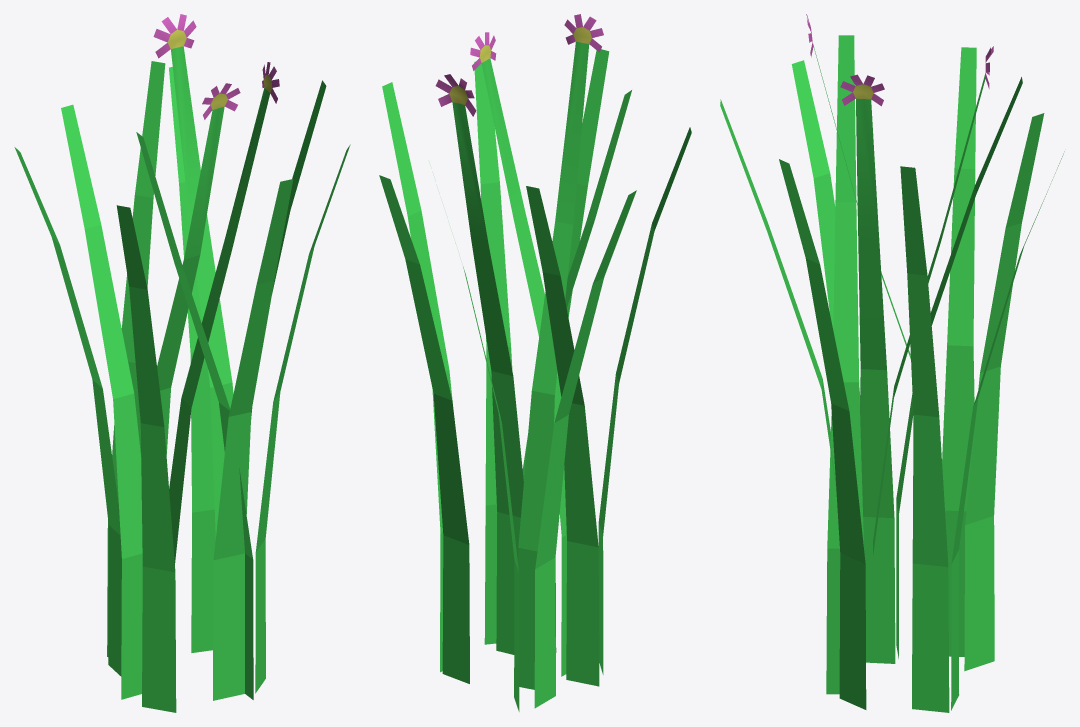
File: GrassAndFlowersMesh.fbx
The picture shows the model from 3 angles, left to right: view 1: azimuth 30°, elevation 25°; view 2: azimuth 150°, elevation 25°; view 3: azimuth 270°, elevation 25°; orthographic projection. The views are drawn at different scales.
Parts seen in each view (by area): view 1: Grass and Flowers; view 2: Grass and Flowers; view 3: Grass and Flowers.
Boxes of the visible parts, <box> form: Grass and Flowers: <box>14,14,350,712</box>; Grass and Flowers: <box>379,14,691,711</box>; Grass and Flowers: <box>720,14,1064,712</box>.
Size of the model in its own units: 234 by 507 by 242.
